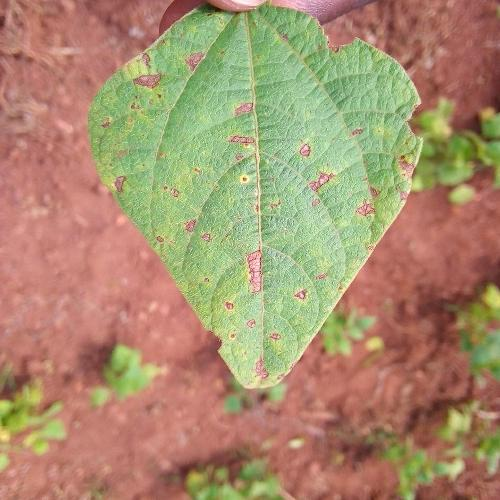hawar: (292, 134, 380, 224), (108, 33, 208, 88), (222, 300, 286, 342), (220, 93, 258, 154), (175, 201, 223, 248), (240, 230, 268, 302), (242, 345, 285, 388), (290, 266, 326, 315), (106, 166, 139, 216), (394, 146, 419, 205), (107, 93, 154, 117), (246, 195, 279, 216), (151, 229, 169, 249)
